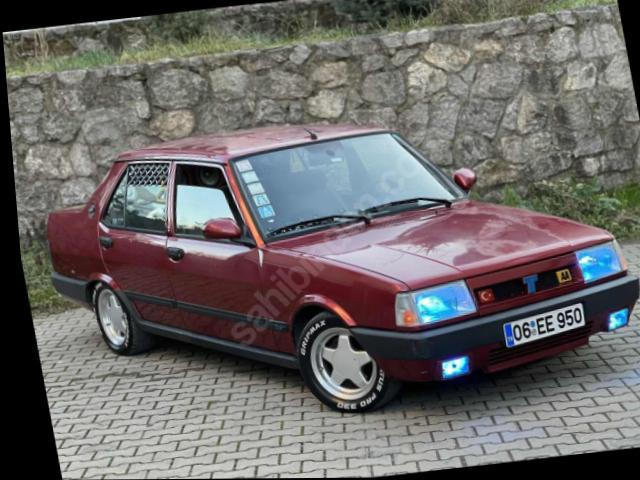plaka: (503, 303, 585, 347)
